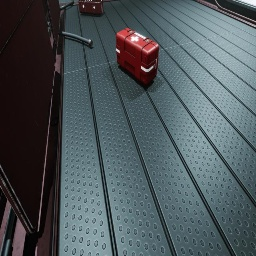FirstAidBox ,: (116, 28, 159, 85), (78, 0, 104, 15)
